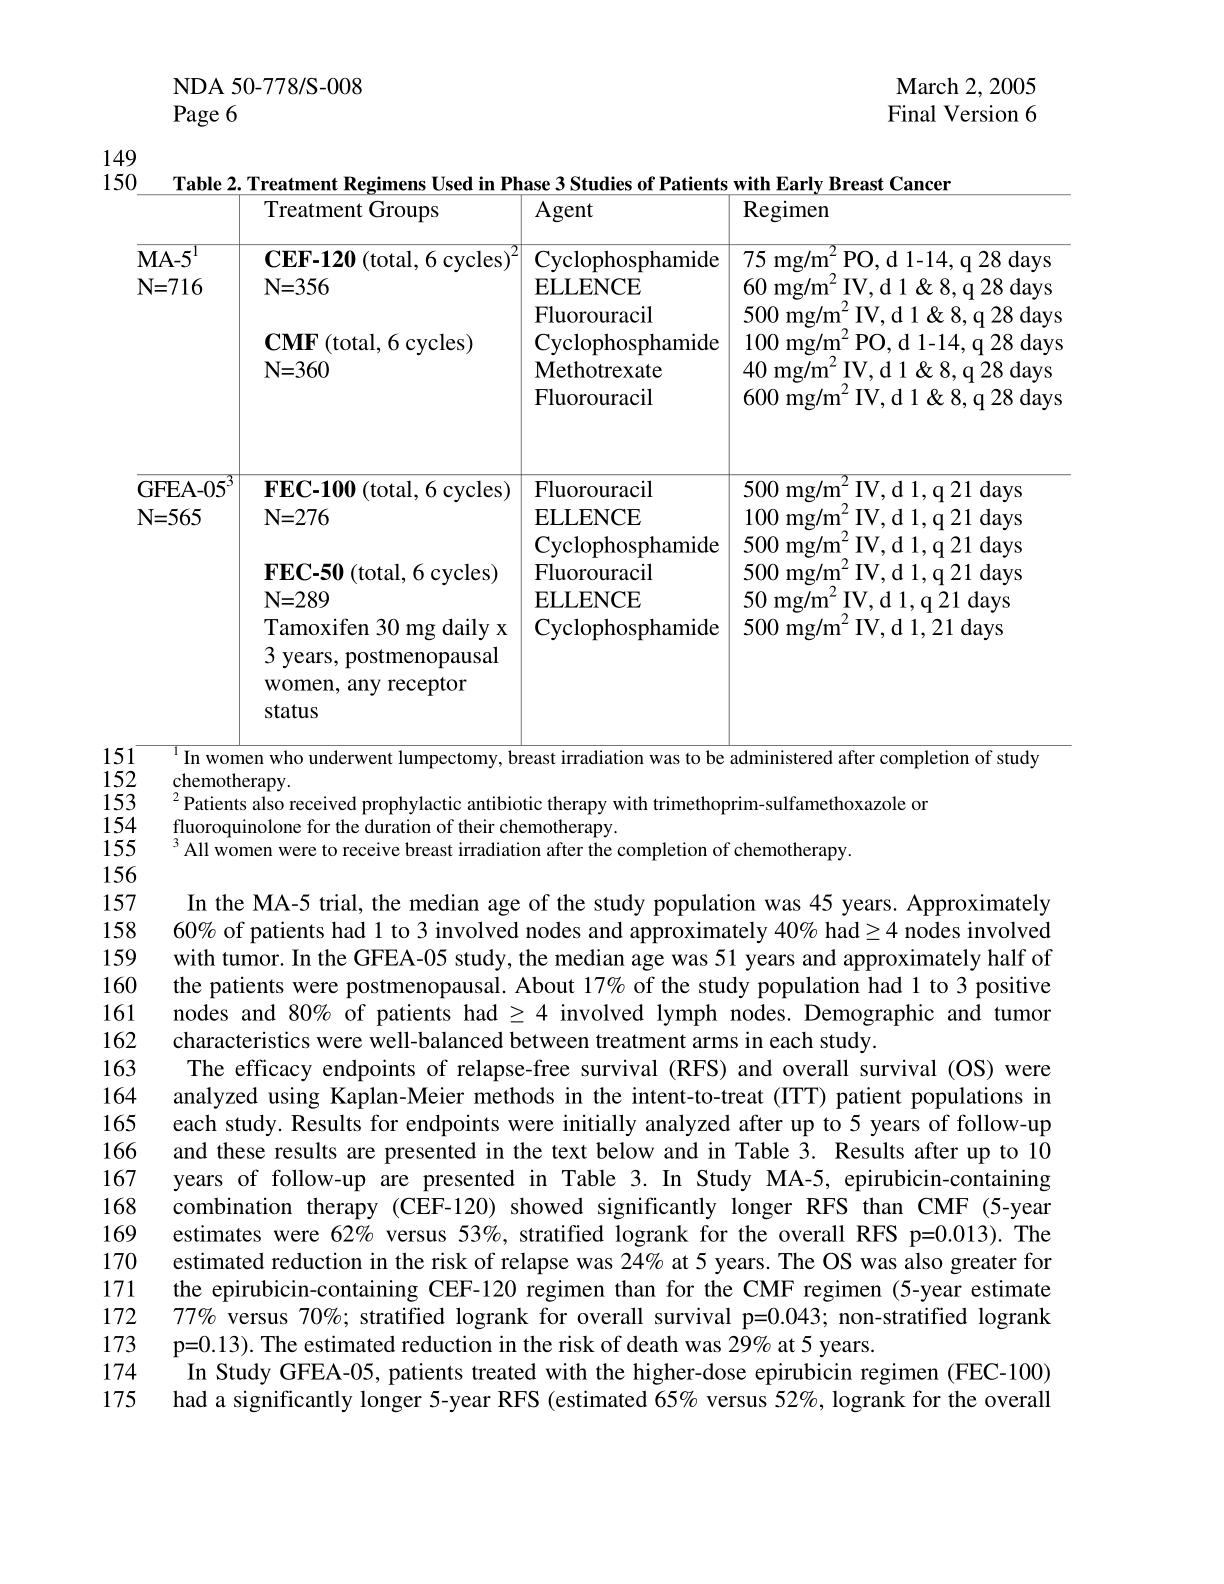partial_lined: (135, 192, 1077, 750)
